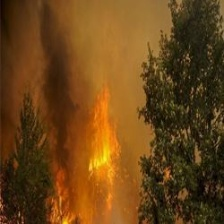fire: (47, 82, 140, 223)
smoke: (26, 7, 92, 163)
